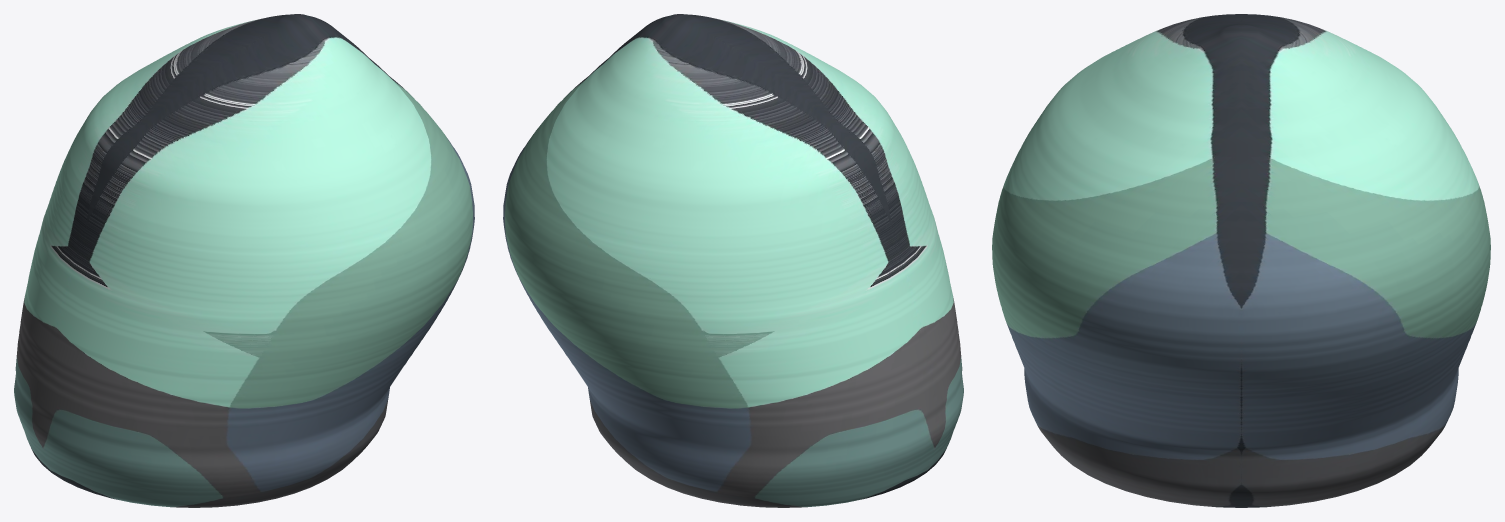
The model's file is mint_boulder.glb.
3 views of the same model, side by side, from view 1: azimuth 30°, elevation 25°; view 2: azimuth 150°, elevation 25°; view 3: azimuth 270°, elevation 25° (orthographic). The views are drawn at different scales.
Parts seen in each view (by area): view 1: mint_boulder; view 2: mint_boulder; view 3: mint_boulder.
Boxes of the visible parts, x1,y1,x2,y2 form: mint_boulder: (14,14,474,507); mint_boulder: (503,14,963,507); mint_boulder: (992,14,1490,507).
Bounding box in the file's own units: 1 × 0.9796 × 0.9195.
Materials: 1 (1 with a texture image).
